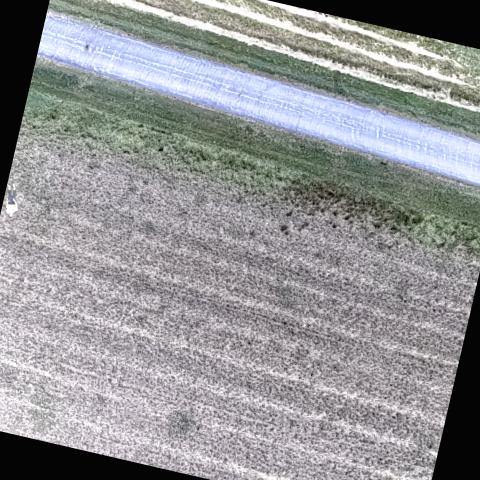person: (0, 179, 25, 220)
